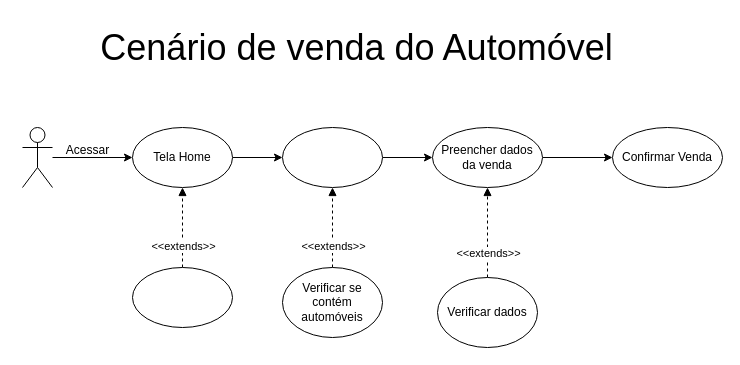
The diagram is 740 pixels wide and 365 high, and some of its shapes have lost their labels. Each missing label, with the box of its shape:
Escolher uma area: (282, 126, 382, 188)
Listar areas: (132, 266, 232, 328)
Usuário: (22, 126, 52, 188)
